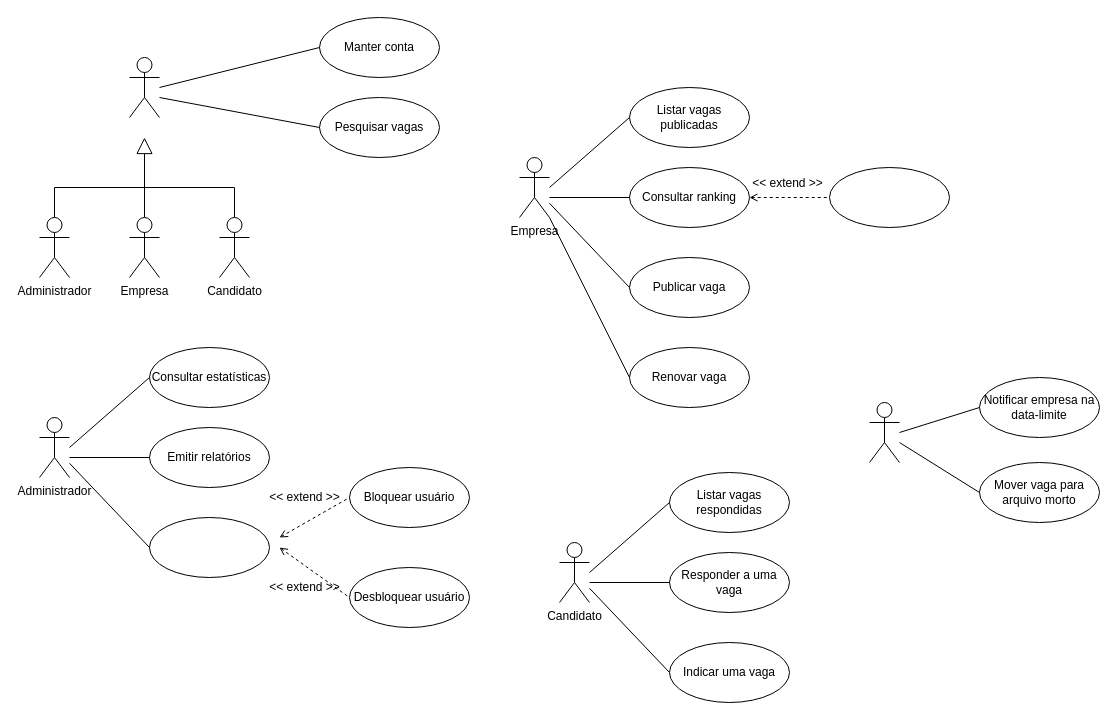
The diagram is 1117 pixels wide and 720 high, and some of its shapes have lost their labels. Each missing label, with the centre of its shape:
"Consultar dados do candidato" goes at (889,197).
"Pesquisar usuários" goes at (209,547).
"Tempo" goes at (884,432).
"Usuário" goes at (144,87).
